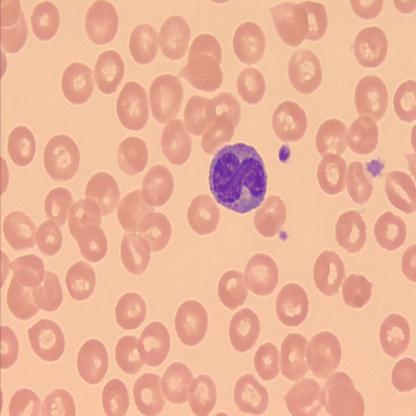Monocyte: (207, 140, 269, 216)
